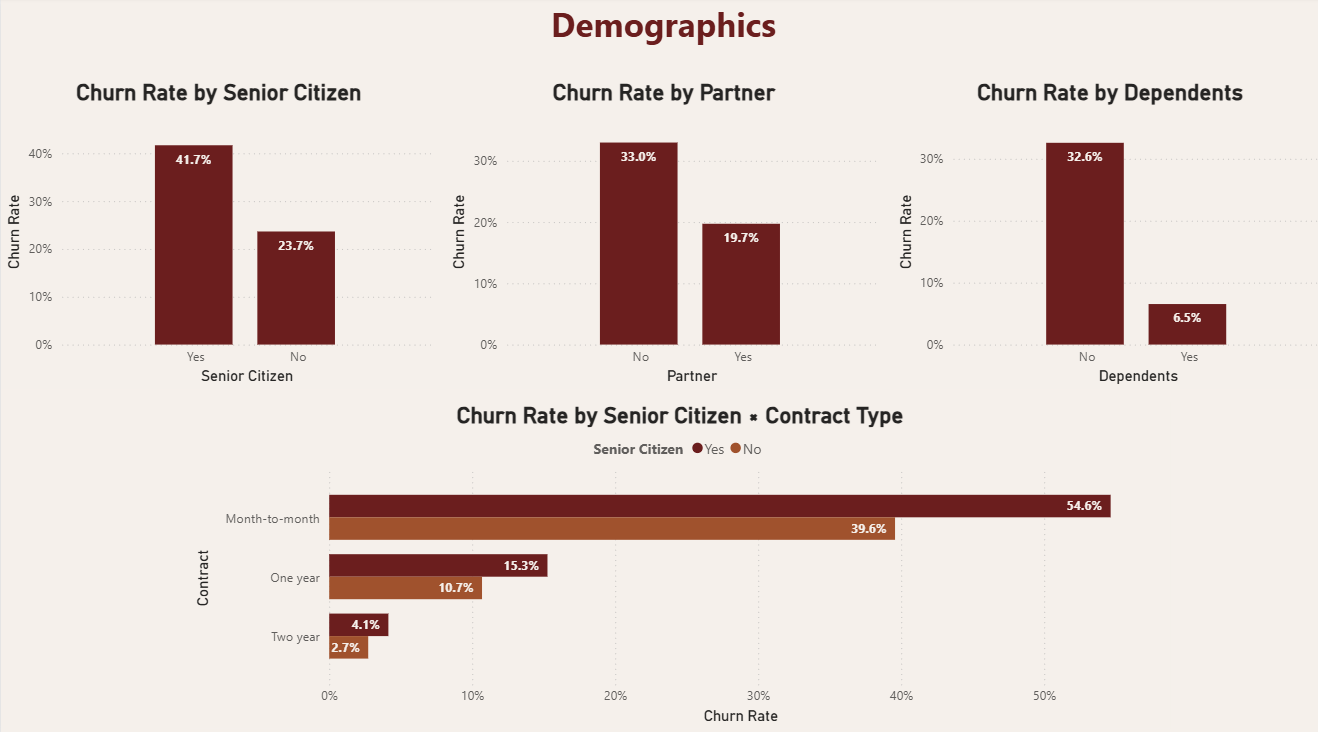

What the dashboard file says about the page in this screenshot:
{"tool":"powerbi","page":{"name":"Demographics","canvas":[1280,720],"ordinal":4},"visuals":[{"type":"textbox","box":[498.9,0,280,58.7],"z":0},{"type":"clusteredColumnChart","fields":{"Category":["telco_churn_cleaned.Senior Citizen"],"Y":["telco_churn_cleaned.Churn Rate"]},"box":[0,80.7,420.7,299.6],"z":1000},{"type":"clusteredColumnChart","fields":{"Category":["telco_churn_cleaned.Partner"],"Y":["telco_churn_cleaned.Churn Rate"]},"box":[429.2,80.7,420.7,299.6],"z":2000},{"type":"clusteredColumnChart","fields":{"Category":["telco_churn_cleaned.Dependents"],"Y":["telco_churn_cleaned.Churn Rate"]},"box":[859.7,80.7,420.7,299.6],"z":3000},{"type":"clusteredBarChart","title":"Churn Rate by Senior Citizen × Contract Type","fields":{"Category":["telco_churn_cleaned.Contract"],"Y":["telco_churn_cleaned.Churn Rate"],"Series":["telco_churn_cleaned.Senior Citizen"]},"box":[182.2,392.5,946.5,315.5],"z":4000}]}

Visuals, with their boxes in screenshot pixels (x1, y1, x2, y2), scaled from the page's 1280x720 canvas onto the 1318x732 screenshot:
textbox: l=514, t=0, r=802, b=60
clusteredColumnChart - telco_churn_cleaned.Senior Citizen x telco_churn_cleaned.Churn Rate: l=0, t=82, r=433, b=387
clusteredColumnChart - telco_churn_cleaned.Partner x telco_churn_cleaned.Churn Rate: l=442, t=82, r=875, b=387
clusteredColumnChart - telco_churn_cleaned.Dependents x telco_churn_cleaned.Churn Rate: l=885, t=82, r=1317, b=387
"Churn Rate by Senior Citizen × Contract Type" clusteredBarChart: l=188, t=399, r=1162, b=720
